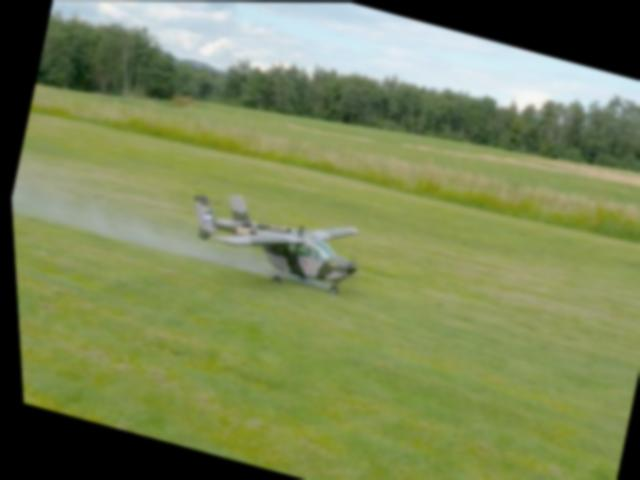uav: (172, 173, 373, 305)
